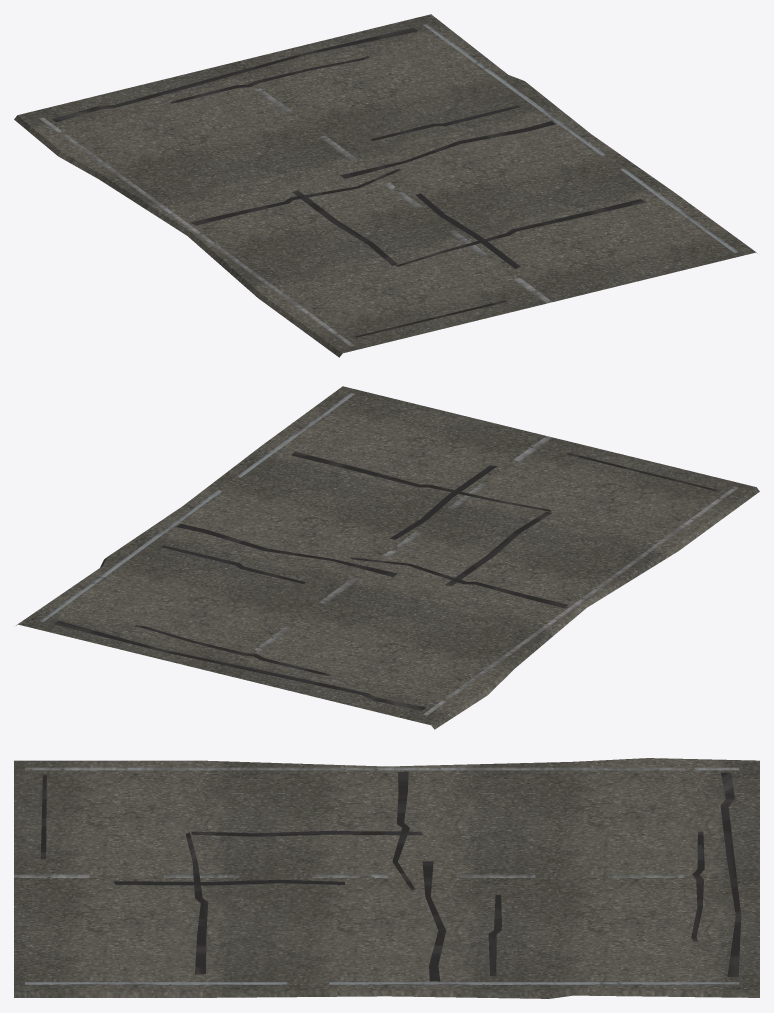
The model's file is bz_Broad_01.fbx.
3 views of the same model, one above another, from view 1: azimuth 30°, elevation 25°; view 2: azimuth 150°, elevation 25°; view 3: azimuth 270°, elevation 25° (orthographic). The views are drawn at different scales.
Visible parts, largest first — view 1: bz_Broad_01, bz_Broad_02, bz_Broad_03; view 2: bz_Broad_01, bz_Broad_02, bz_Broad_03; view 3: bz_Broad_01, bz_Broad_02, bz_Broad_03.
Part boxes in pixels (x1,y1,x2,y2): bz_Broad_01: [14, 14, 757, 357]; bz_Broad_02: [15, 14, 725, 356]; bz_Broad_03: [52, 27, 645, 337]; bz_Broad_01: [16, 386, 759, 729]; bz_Broad_02: [55, 393, 758, 715]; bz_Broad_03: [53, 451, 716, 710]; bz_Broad_01: [14, 758, 759, 998]; bz_Broad_02: [14, 758, 759, 998]; bz_Broad_03: [40, 772, 741, 976].
Size of the model in its own units: 7.57 by 0.0601 by 10.
